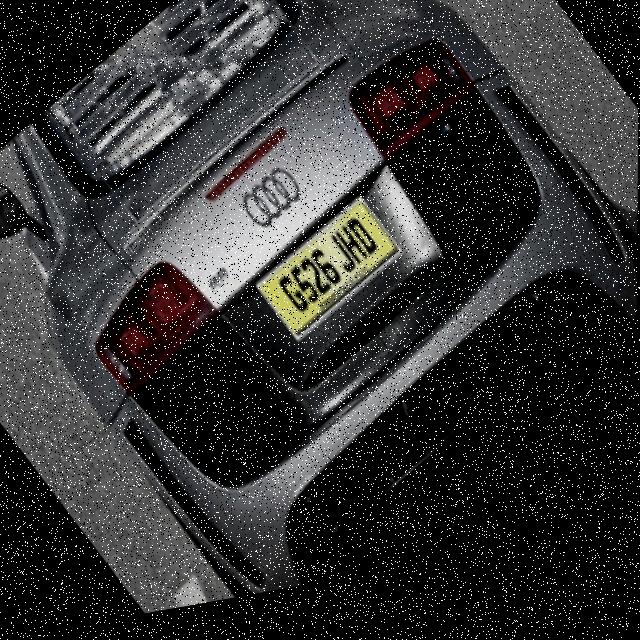license_plate: (254, 203, 402, 358)
